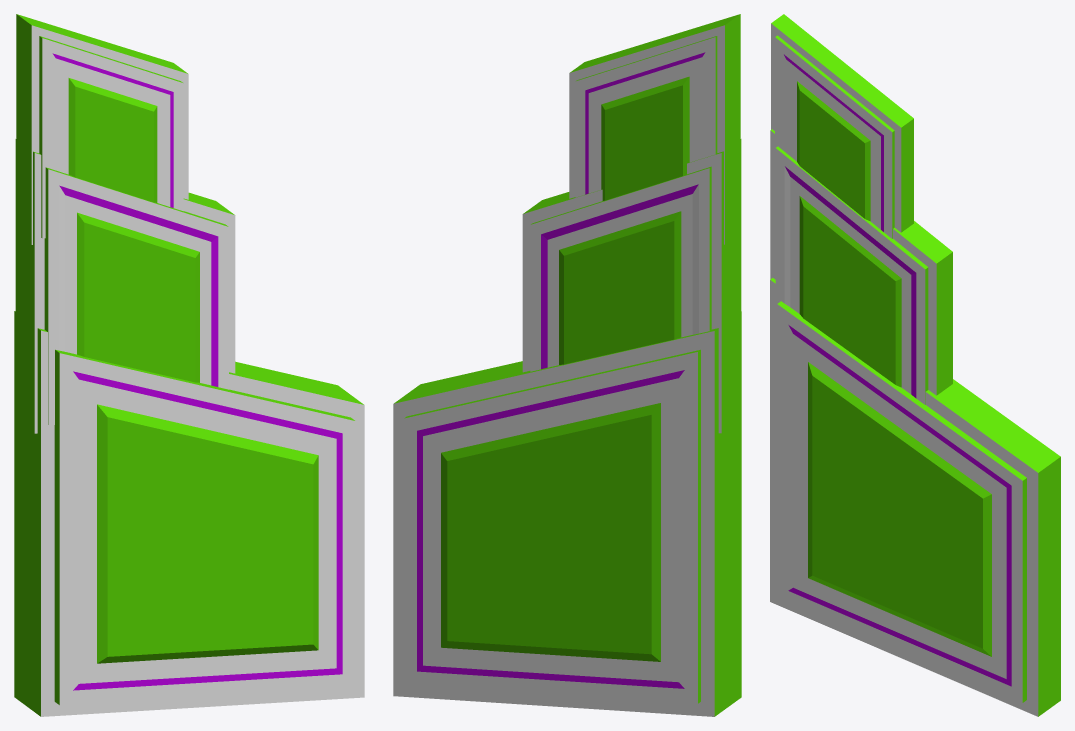
Rendered from altk_lv10.fbx.
3 renders of one model, left to right at view 1: azimuth 30°, elevation 25°; view 2: azimuth 150°, elevation 25°; view 3: azimuth 330°, elevation 25°, orthographic. The views are drawn at different scales.
Visible parts, largest first — view 1: altk_lv10; view 2: altk_lv10; view 3: altk_lv10.
Boxes of the visible parts, x1,y1,x2,y2 form: altk_lv10: (14,14,364,716); altk_lv10: (393,14,741,716); altk_lv10: (770,14,1060,716).
Bounding box in the file's own units: 85.55 × 187 × 18.
